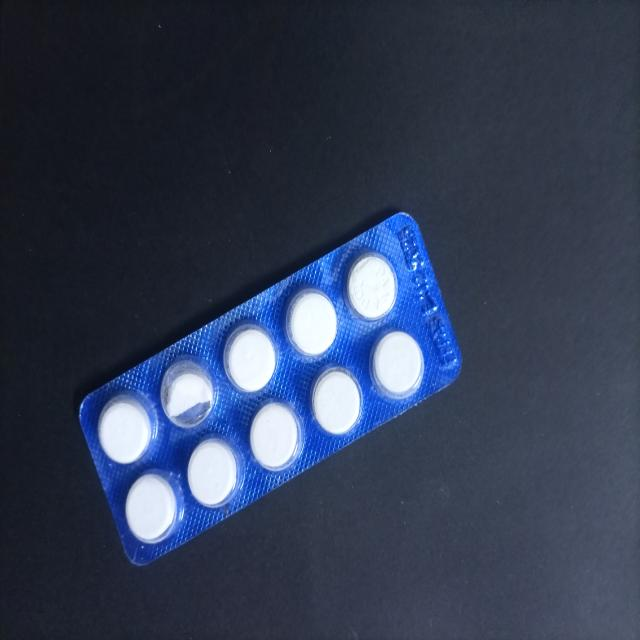defect: (158, 353, 220, 431)
